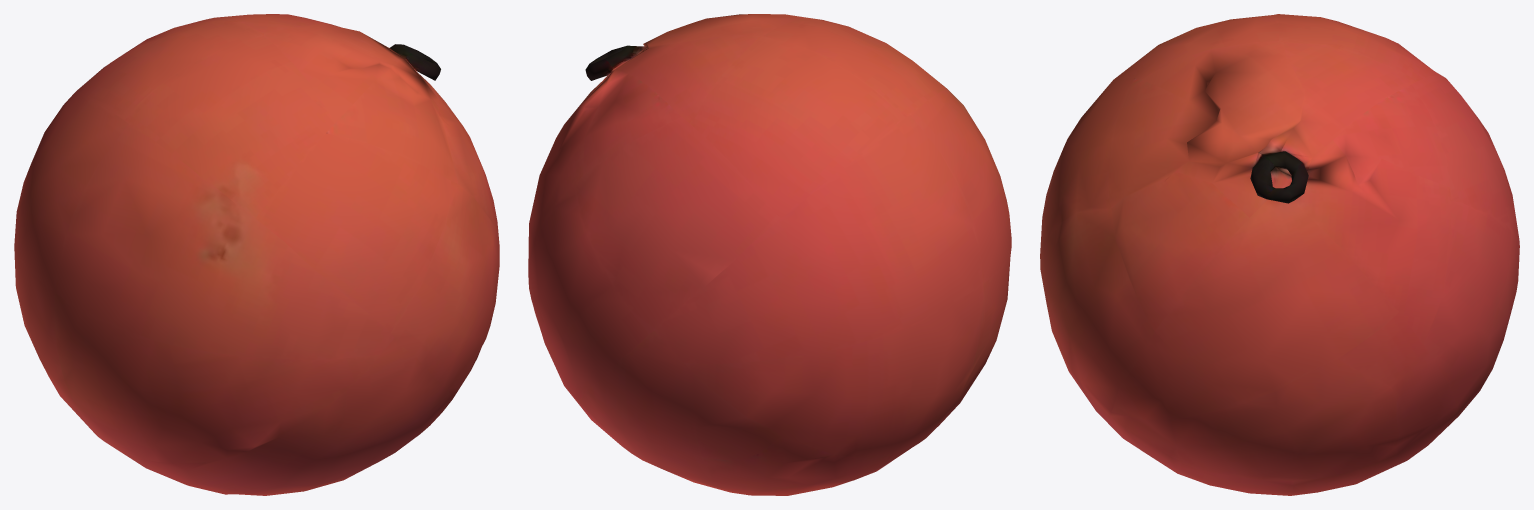
The model's file is medicine-ball.glb.
3 views of the same model, side by side, from view 1: azimuth 30°, elevation 25°; view 2: azimuth 150°, elevation 25°; view 3: azimuth 270°, elevation 25° (orthographic).
Parts seen in each view (by area): view 1: tripo_node_371cae75-06f7-435b-bc14-7cf7d26a70e0; view 2: tripo_node_371cae75-06f7-435b-bc14-7cf7d26a70e0; view 3: tripo_node_371cae75-06f7-435b-bc14-7cf7d26a70e0.
Boxes of the visible parts, x1,y1,x2,y2 form: tripo_node_371cae75-06f7-435b-bc14-7cf7d26a70e0: (14, 14, 499, 495); tripo_node_371cae75-06f7-435b-bc14-7cf7d26a70e0: (528, 14, 1011, 495); tripo_node_371cae75-06f7-435b-bc14-7cf7d26a70e0: (1040, 14, 1519, 495).
Size of the model in its own units: 0.998 by 0.9985 by 0.9979.
Materials: 1 (1 with a texture image).
